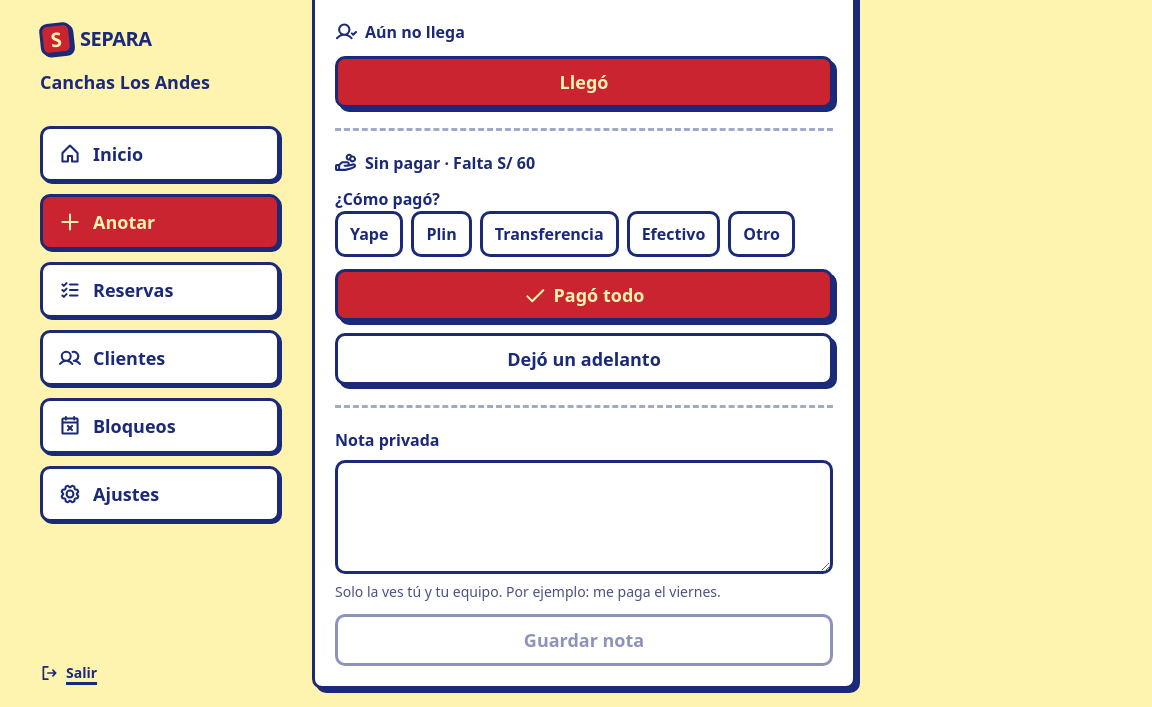
Test case: payment › shows what the server refused
(page scrolled)
Click the button "Dejó un adelanto": coordinates (584, 359) [335,333,833,385]
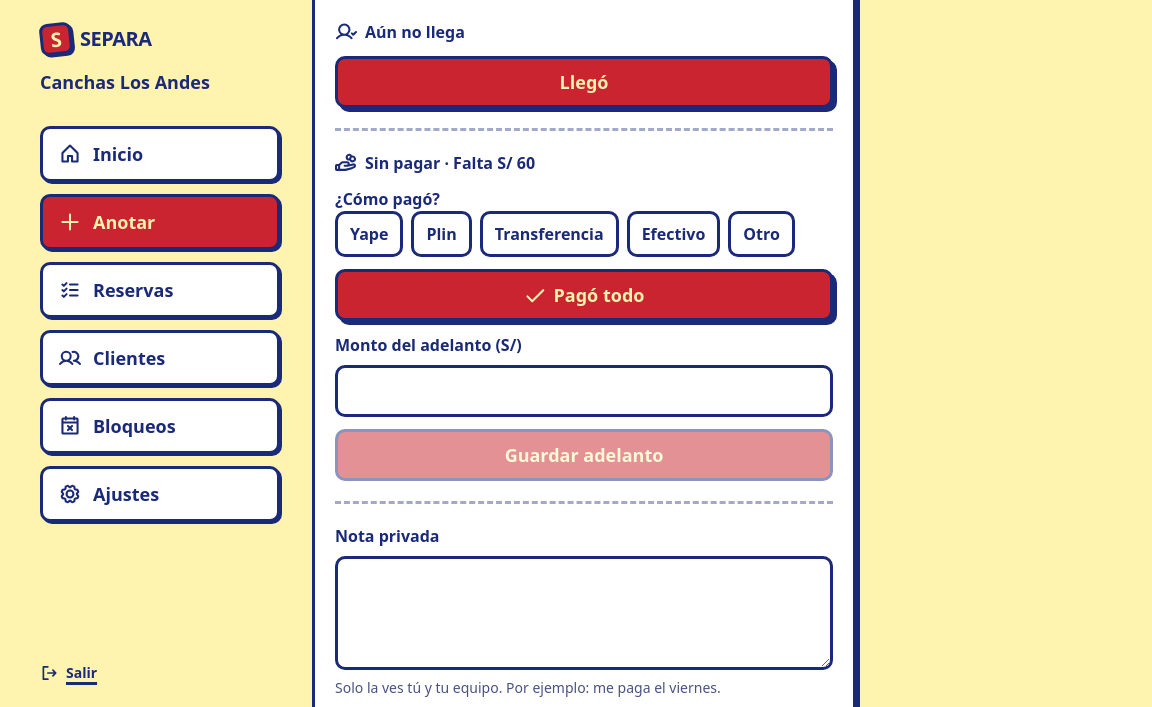
In the field labelled "Monto del adelanto (S/)": coordinates (584, 391) [335,365,833,417], type "0"
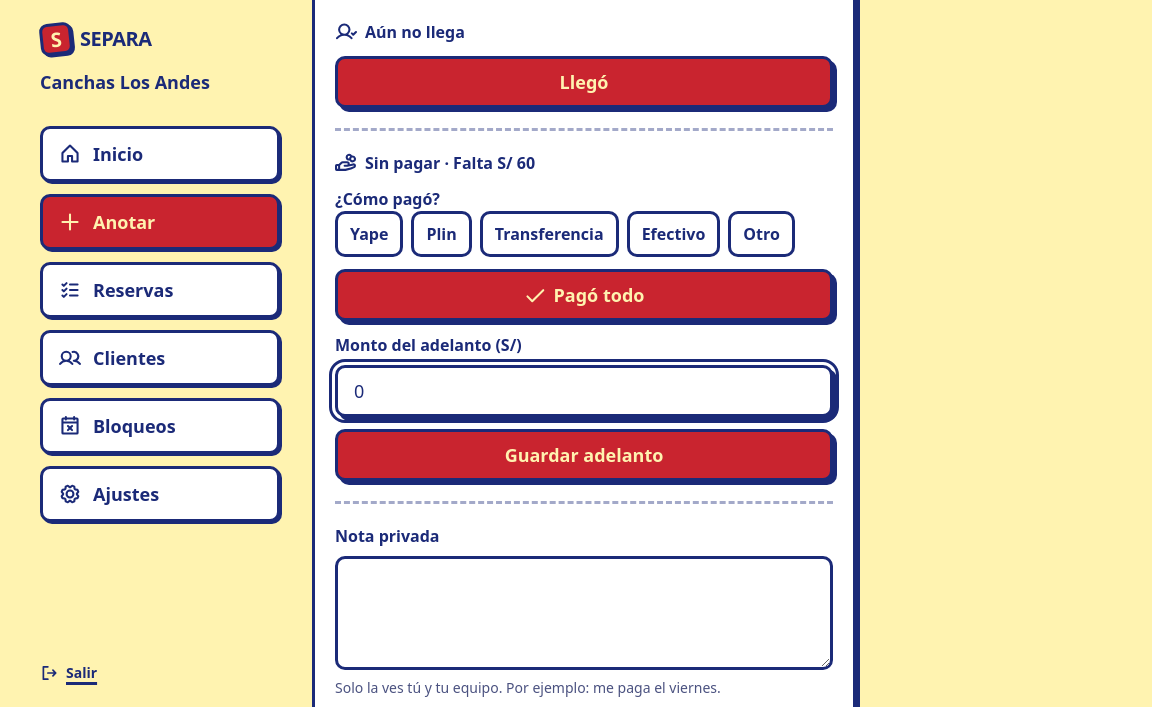
Click the button "Guardar adelanto": coordinates (584, 455) [335,429,833,481]
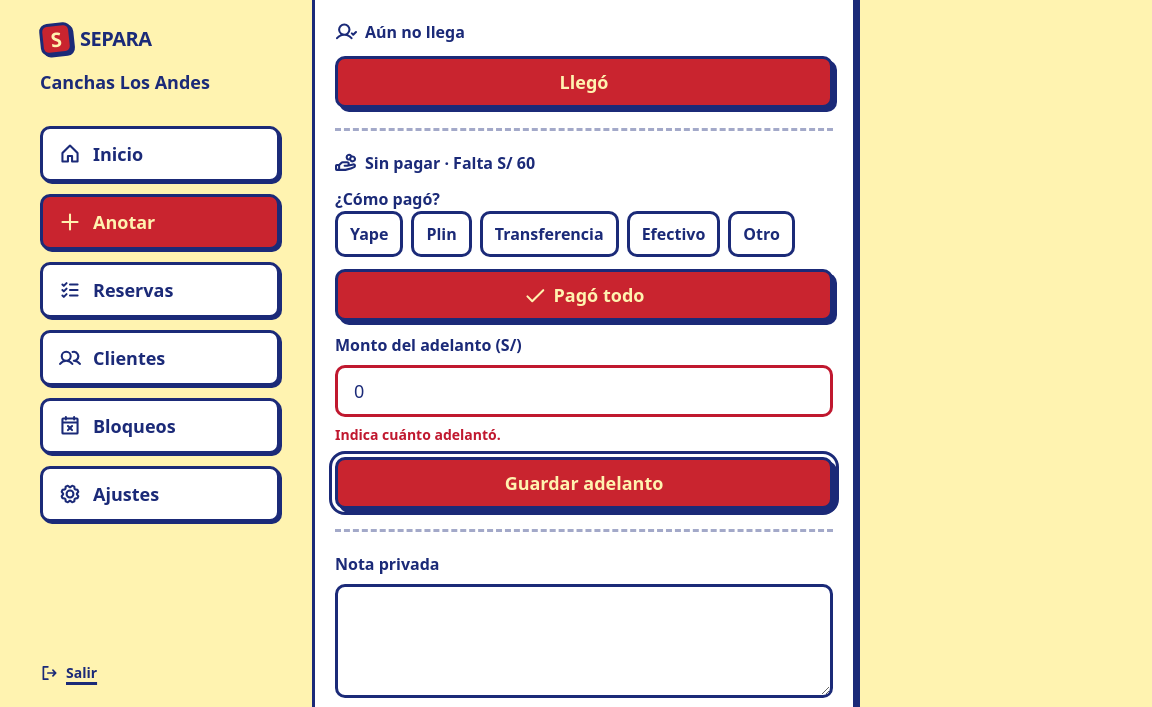
Expected: the message reads "Indica cuánto adelantó.", [335,425,501,444]
